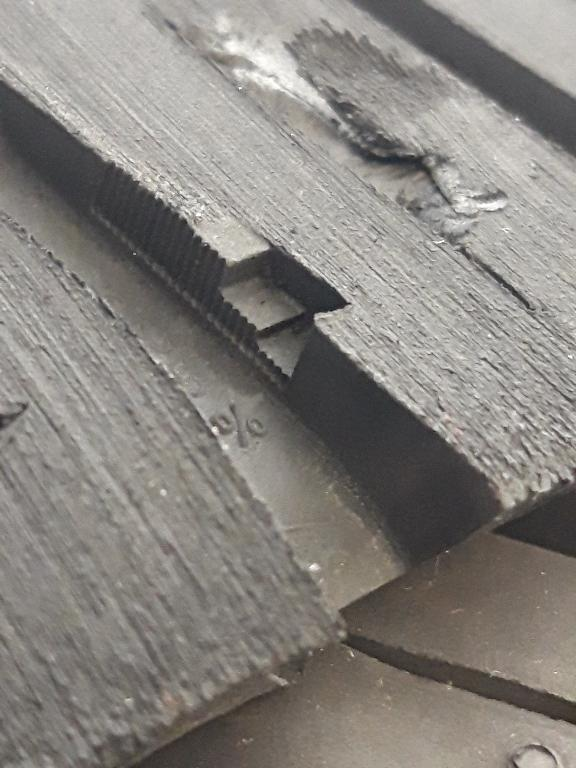temoin:50: (160, 187, 360, 398)
